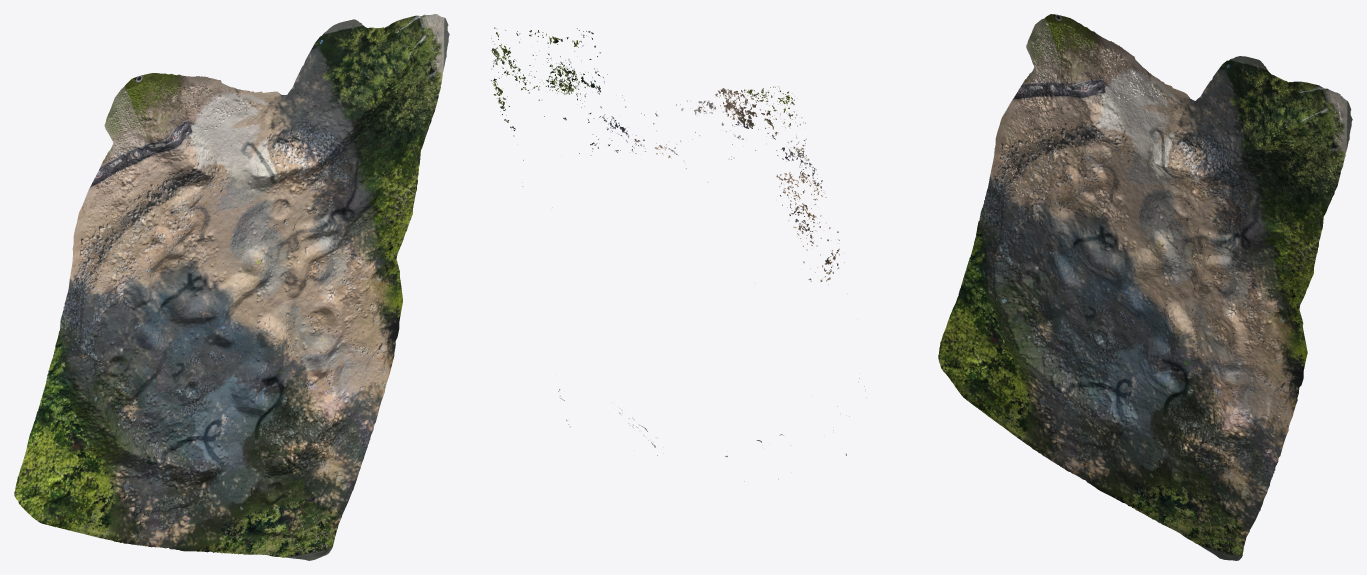
Rendered from marsyard2026_visual.glb.
The picture shows the model from 3 angles, left to right: view 1: azimuth 30°, elevation 25°; view 2: azimuth 150°, elevation 25°; view 3: azimuth 330°, elevation 25°; orthographic projection. The views are drawn at different scales.
Visible parts, largest first — view 1: world; view 2: world; view 3: world.
Part boxes in pixels (x1,y1,x2,y2): world: (14, 14, 449, 560); world: (491, 27, 864, 481); world: (938, 14, 1352, 560).
Size of the model in its own units: 37.33 by 43.77 by 2.43.
1 material, 1 textured.
